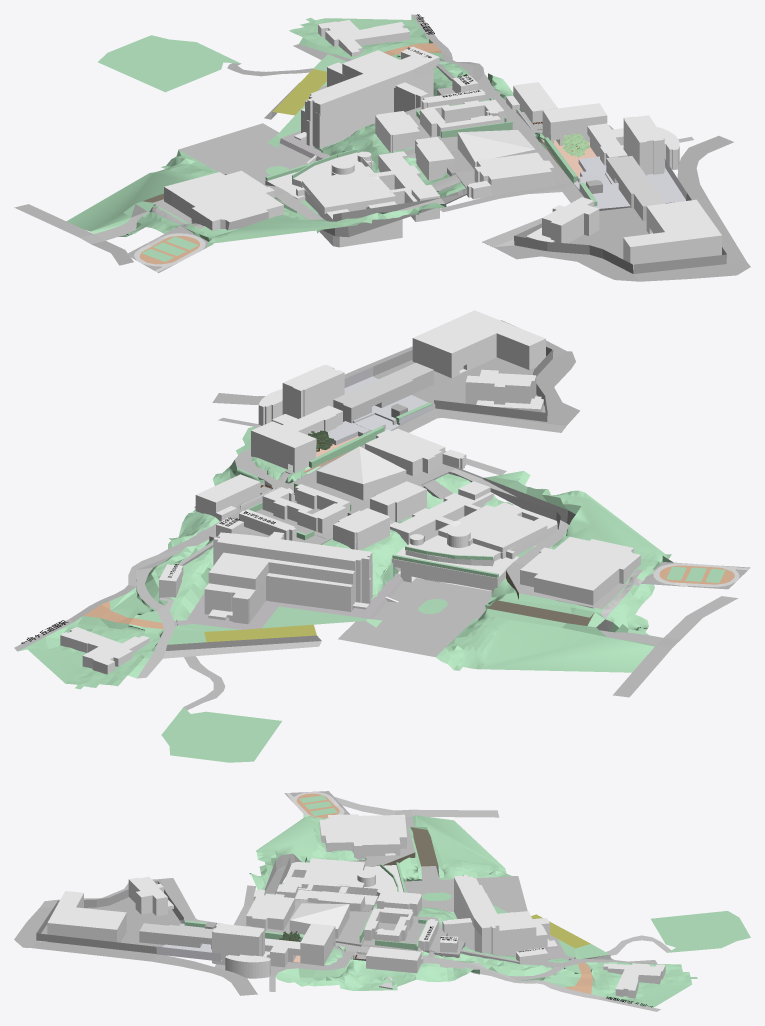
File: wholeMap (2).glb
3 renders of one model, top to bottom at view 1: azimuth 30°, elevation 25°; view 2: azimuth 150°, elevation 25°; view 3: azimuth 270°, elevation 25°, orthographic. The views are drawn at different scales.
Visible parts, largest first — view 1: object, 10号館, 9号館, 総合体育館, 1号館, 北グラウンド, 駐車場_road_1, 4号館, 5号館, 図書館別館, 6号館, 西グラウンド (+11 smaller); view 2: object, 10号館, 9号館, 駐車場_road_1, 1号館, 総合体育館, 北グラウンド, 4号館, 第1体育館, 2号館, 6号館, 図書館別館 (+9 smaller); view 3: object, 10号館, 総合体育館, 9号館, 北グラウンド, 1号館, 駐車場_road_1, 4号館, 3号館, 第1体育館, 5号館, 2号館 (+11 smaller).
Part boxes in pixels (x1,y1,x2,y2): object: (14,14,750,281); 10号館: (294,50,433,163); 9号館: (265,151,402,247); 総合体育館: (164,170,283,230); 1号館: (623,199,721,269); 北グラウンド: (98,35,240,92); 駐車場_road_1: (179,123,316,184); 4号館: (542,103,627,165); 5号館: (474,152,554,193); 図書館別館: (526,197,599,243); 6号館: (420,99,504,136); 西グラウンド: (126,225,208,273); object: (14,320,739,710); 10号館: (204,531,398,624); 9号館: (391,502,557,595); 駐車場_road_1: (338,578,491,657); 1号館: (412,310,545,378); 総合体育館: (520,536,640,608); 北グラウンド: (161,707,281,762); 4号館: (251,405,342,472); 第1体育館: (316,446,406,500); 2号館: (333,363,433,423); 6号館: (262,484,349,533); 図書館別館: (465,369,543,412); object: (14,792,697,1011); 10号館: (442,874,557,956); 総合体育館: (319,814,406,859); 9号館: (283,858,403,897); 北グラウンド: (651,911,750,952); 1号館: (47,891,126,943); 駐車場_road_1: (404,876,527,912); 4号館: (263,923,335,967); 3号館: (212,923,264,964); 第1体育館: (289,903,349,938); 5号館: (246,893,294,930); 2号館: (139,923,212,949).
Bounding box in the file's own units: 208 × 33.6 × 291.
